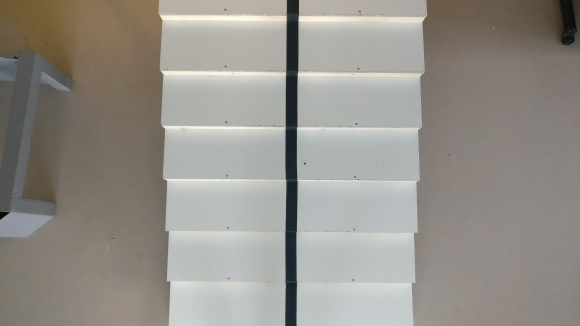stairs: (156, 1, 430, 326)
